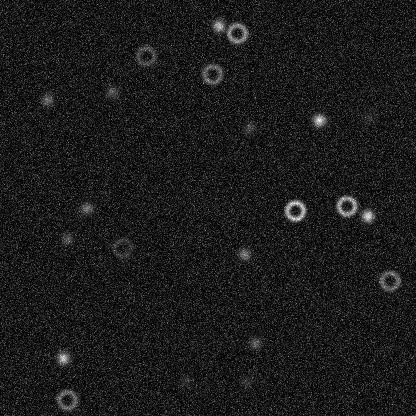Ring: (283, 198, 307, 222), (334, 193, 358, 217), (225, 21, 249, 45), (200, 62, 224, 86), (133, 43, 157, 67), (55, 387, 79, 411), (377, 268, 401, 292), (110, 235, 134, 259)
Spot: (39, 91, 55, 107), (59, 230, 75, 246), (236, 245, 252, 261), (210, 17, 226, 33), (241, 119, 257, 135), (55, 350, 71, 366), (359, 207, 375, 223), (177, 372, 193, 388), (360, 109, 376, 125), (238, 373, 254, 389), (311, 112, 327, 128), (247, 335, 263, 351), (78, 200, 94, 216), (103, 84, 119, 100)
